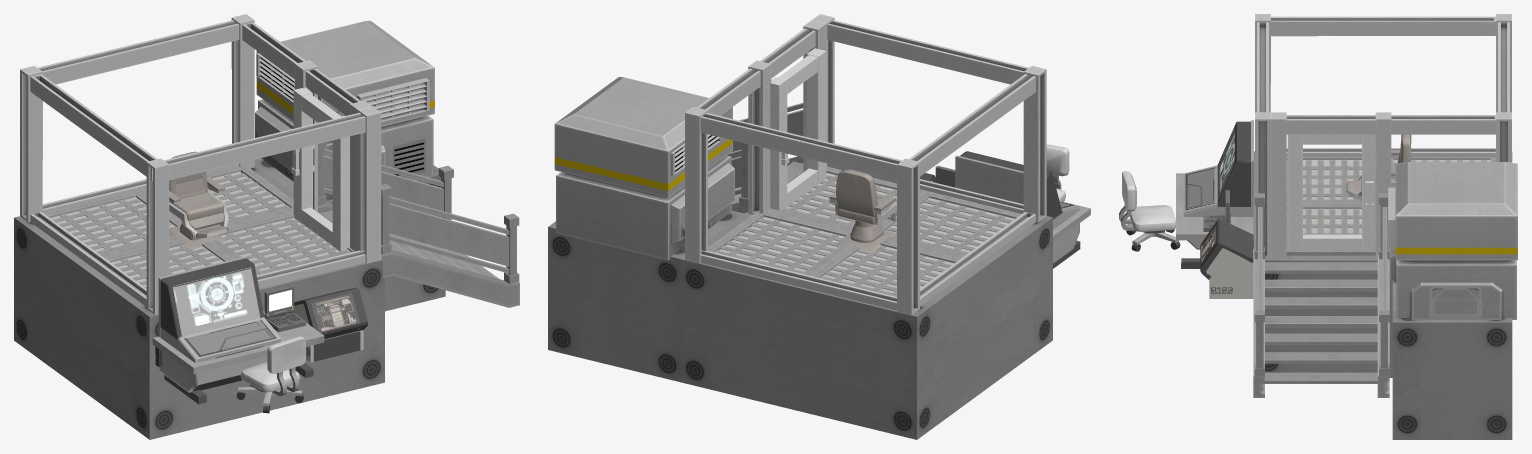
Rendered from Pfb_ObservationDeck_Temp__11.fbx.
3 renders of one model, left to right at view 1: azimuth 30°, elevation 25°; view 2: azimuth 150°, elevation 25°; view 3: azimuth 270°, elevation 25°, orthographic. The views are drawn at different scales.
Visible parts, largest first — view 1: Mat_SteelFrame_01, MAT_ScalableMesh_01, Mat_Ventilation_Soda, Mat_Stairs_Soda, Mat_Network_01_2, MAT_Soda_Instruments_Grey 6, Mat_TS_Metall 2, Mat_Tile_Color_01 7, MAT_Soda_Instruments_Grey 7, Mat_Tile_Color_07 2, Mat_Chair_01, Mat_Table_01 (+2 smaller); view 2: MAT_ScalableMesh_01, Mat_SteelFrame_01, Mat_Ventilation_Soda, Mat_Network_01_2, Mat_TS_Metall 2, Mat_Tile_Color_01 7, Mat_Tile_Color_07 2, Mat_CementMold_1, Mat_Stairs_Soda, MAT_Soda_Instruments_Grey 6, Mat_Chair_01, Mat_Table_01; view 3: MAT_ScalableMesh_01, Mat_Ventilation_Soda, Mat_SteelFrame_01, Mat_Stairs_Soda, Mat_TS_Metall 2, Mat_Network_01_2, MAT_Soda_Instruments_Grey 6, MAT_Soda_Instruments_Grey 7, Mat_Chair_01, Mat_Tile_Color_01 7, Mat_Table_01, Mat_Tile_Color_07 2 (+1 smaller).
Boxes of the visible parts, x1,y1,x2,y2 form: Mat_SteelFrame_01: (20,14,381,314); MAT_ScalableMesh_01: (14,158,445,439); Mat_Ventilation_Soda: (255,20,434,200); Mat_Stairs_Soda: (318,142,519,307); Mat_Network_01_2: (37,165,354,296); MAT_Soda_Instruments_Grey 6: (159,258,282,392); Mat_TS_Metall 2: (293,88,349,251); Mat_Tile_Color_01 7: (50,172,339,286); MAT_Soda_Instruments_Grey 7: (293,287,367,362); Mat_Tile_Color_07 2: (169,151,226,249); Mat_Chair_01: (236,336,305,413); Mat_Table_01: (152,310,324,404); MAT_ScalableMesh_01: (548,171,1052,439); Mat_SteelFrame_01: (685,14,1046,315); Mat_Ventilation_Soda: (554,77,734,260); Mat_Network_01_2: (708,166,1028,296); Mat_TS_Metall 2: (770,48,826,210); Mat_Tile_Color_01 7: (719,173,1014,293); Mat_Tile_Color_07 2: (829,169,896,253); Mat_CementMold_1: (955,155,1023,204); Mat_Stairs_Soda: (727,102,803,213); MAT_Soda_Instruments_Grey 6: (960,151,1079,263); Mat_Chair_01: (1046,144,1069,201); Mat_Table_01: (1053,201,1090,268); MAT_ScalableMesh_01: (1253,151,1512,439); Mat_Ventilation_Soda: (1388,162,1517,319); Mat_SteelFrame_01: (1255,14,1511,259); Mat_Stairs_Soda: (1253,193,1389,397); Mat_TS_Metall 2: (1287,134,1375,250); Mat_Network_01_2: (1286,157,1495,255); MAT_Soda_Instruments_Grey 6: (1183,121,1250,249); MAT_Soda_Instruments_Grey 7: (1200,219,1253,298); Mat_Chair_01: (1119,171,1180,251); Mat_Tile_Color_01 7: (1303,160,1490,233); Mat_Table_01: (1176,173,1253,268); Mat_Tile_Color_07 2: (1347,134,1411,194).
Size of the model in its own units: 6.29 by 4.39 by 6.17.
Materials: 16 (16 with a texture image).
